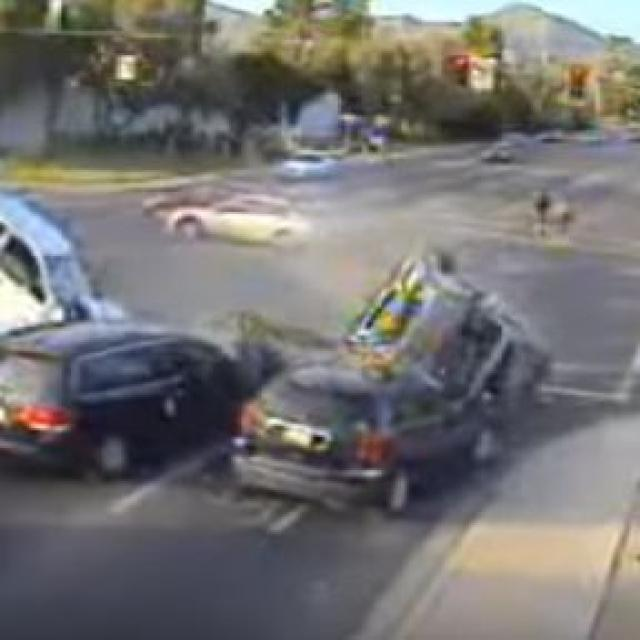traffic_incident: (238, 254, 546, 516), (0, 198, 231, 464)
